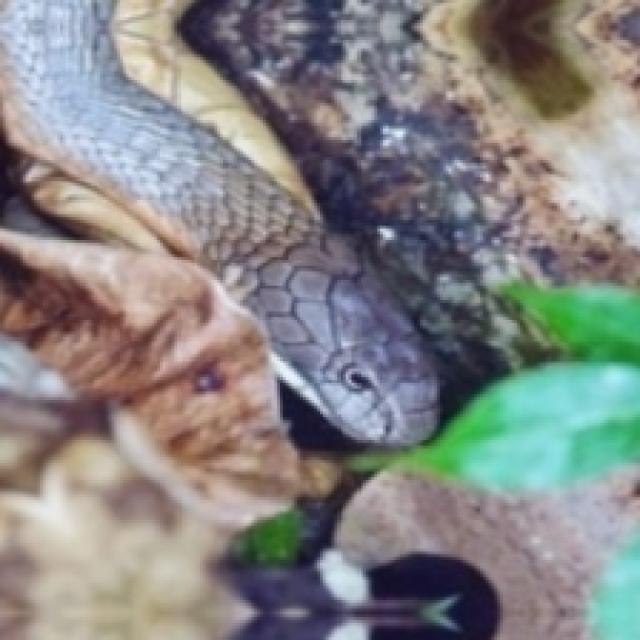king cobra: (0, 0, 437, 443)
